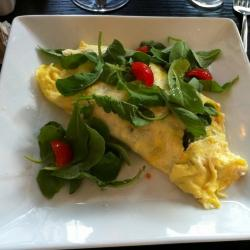omelette: (41, 45, 238, 199)
salad: (71, 44, 215, 126)
